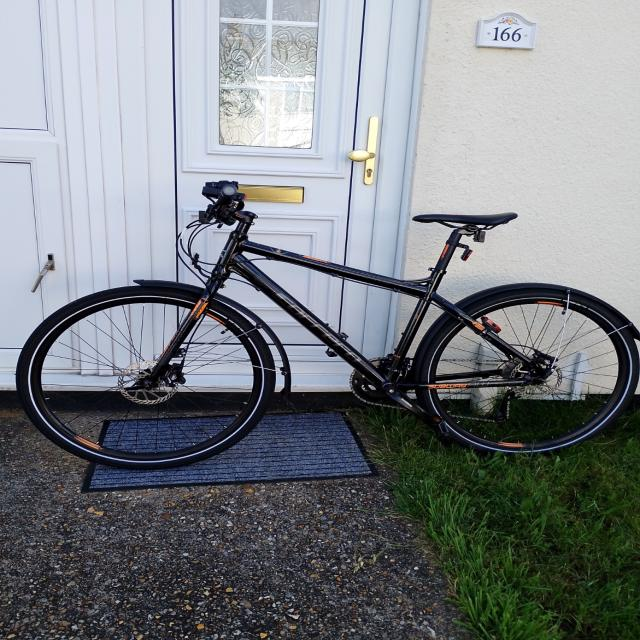bicycle: (14, 180, 639, 468)
